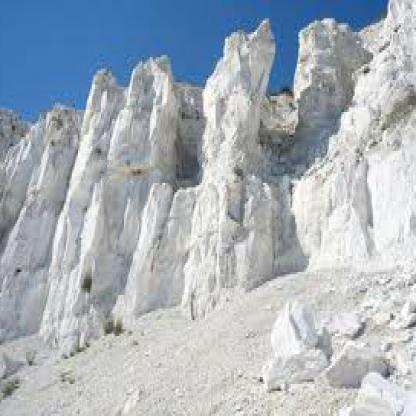Sedimentary_Chalk: (2, 76, 96, 345), (194, 14, 280, 306), (106, 50, 186, 304), (283, 13, 358, 270), (358, 2, 415, 266), (262, 292, 322, 380), (317, 332, 393, 387)
